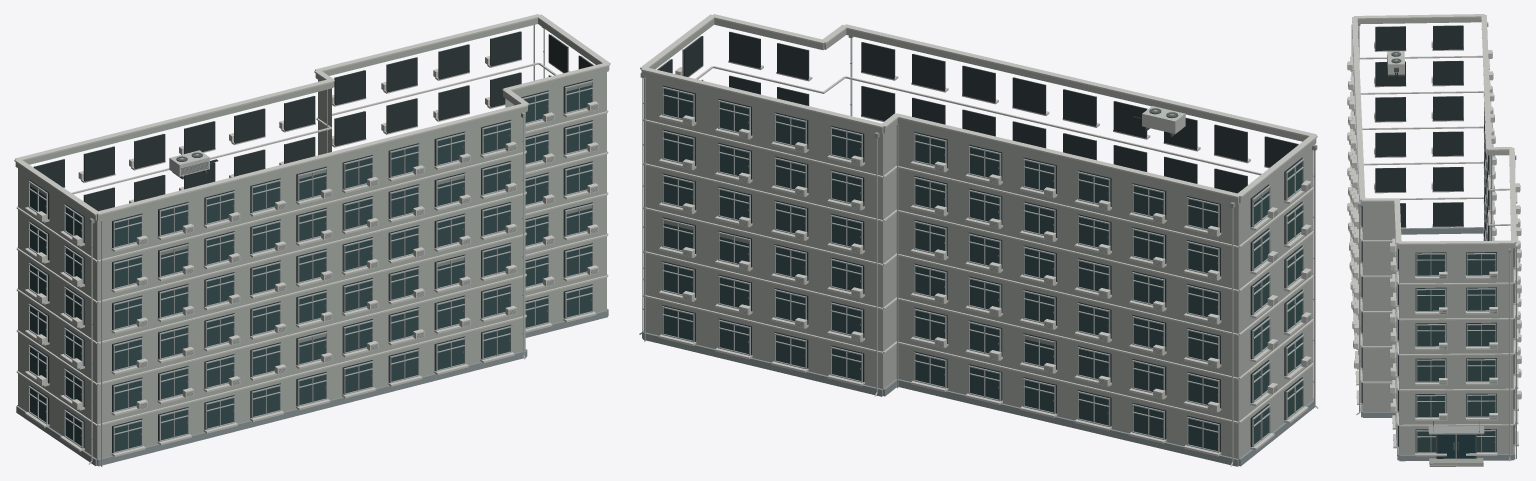
File: osm_way_223859783.glb
3 renders of one model, left to right at view 1: azimuth 30°, elevation 25°; view 2: azimuth 150°, elevation 25°; view 3: azimuth 270°, elevation 25°, orthographic. The views are drawn at different scales.
Parts seen in each view (by area): view 1: Windows and facade details | 19, Architecture | 19, Roof services | 19, EXTERIOR::osm_way_223859783::rainwater and roof service deta, EXTERIOR::osm_way_223859783::native pane seals and hardware; view 2: Architecture | 19, Windows and facade details | 19, Roof services | 19, EXTERIOR::osm_way_223859783::rainwater and roof service deta; view 3: Windows and facade details | 19, Architecture | 19, Roof services | 19, EXTERIOR::osm_way_223859783::inferred entry doors canopy and, EXTERIOR::osm_way_223859783::rainwater and roof service deta.
Boxes of the visible parts, x1=… form: Windows and facade details | 19: x1=25, y1=25, x2=598, y2=466; Architecture | 19: x1=15, y1=18, x2=609, y2=466; Roof services | 19: x1=14, y1=14, x2=610, y2=215; EXTERIOR::osm_way_223859783::rainwater and roof service deta: x1=88, y1=27, x2=544, y2=464; EXTERIOR::osm_way_223859783::native pane seals and hardware: x1=30, y1=82, x2=591, y2=435; Architecture | 19: x1=641, y1=19, x2=1316, y2=466; Windows and facade details | 19: x1=644, y1=31, x2=1311, y2=456; Roof services | 19: x1=640, y1=14, x2=1317, y2=198; EXTERIOR::osm_way_223859783::rainwater and roof service deta: x1=639, y1=35, x2=1318, y2=466; Windows and facade details | 19: x1=1347, y1=24, x2=1521, y2=458; Architecture | 19: x1=1357, y1=17, x2=1515, y2=461; Roof services | 19: x1=1352, y1=14, x2=1516, y2=244; EXTERIOR::osm_way_223859783::inferred entry doors canopy and: x1=1428, y1=421, x2=1484, y2=466; EXTERIOR::osm_way_223859783::rainwater and roof service deta: x1=1356, y1=22, x2=1516, y2=460.
Bounding box in the file's own units: 46.04 × 20.58 × 14.31.
